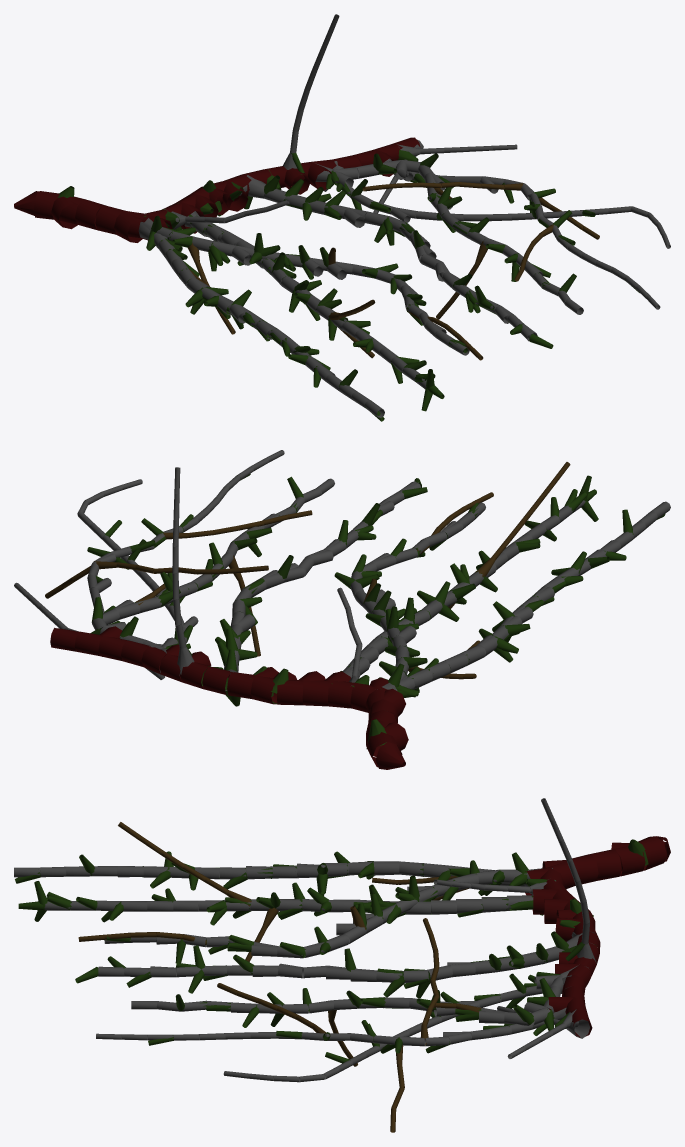
File: tree_1.obj
The picture shows the model from 3 angles, top to bottom: view 1: azimuth 30°, elevation 25°; view 2: azimuth 150°, elevation 25°; view 3: azimuth 270°, elevation 25°; orthographic projection. The views are drawn at different scales.
Size of the model in its own units: 22.23 by 11.05 by 25.29.
